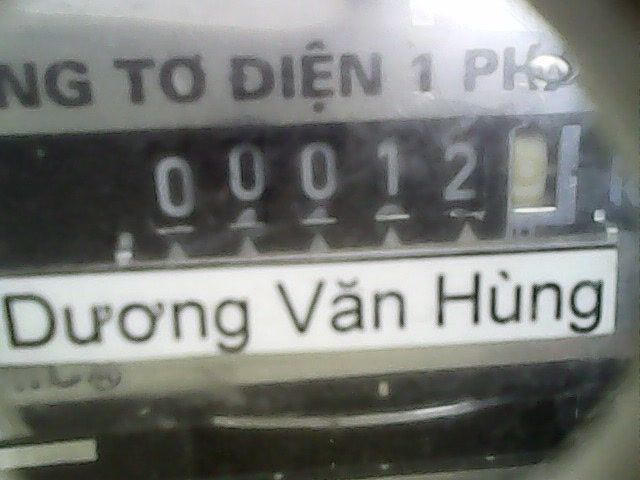phy_plate: (140, 119, 587, 251)
